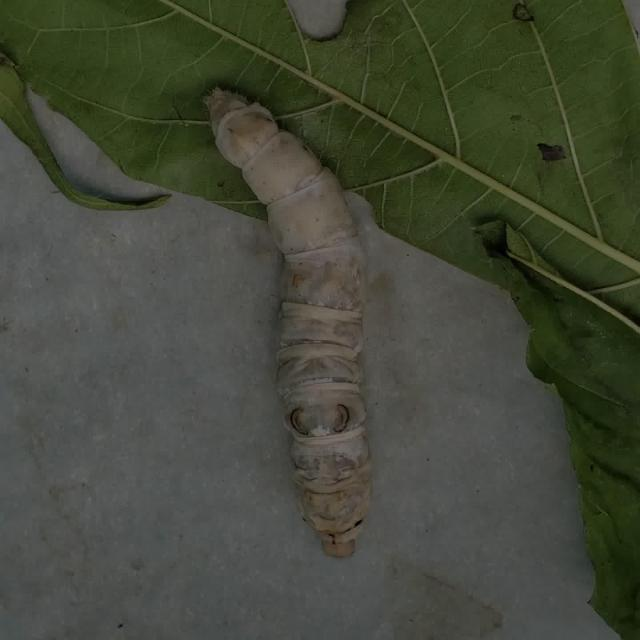Grasserie: (190, 81, 419, 573)
